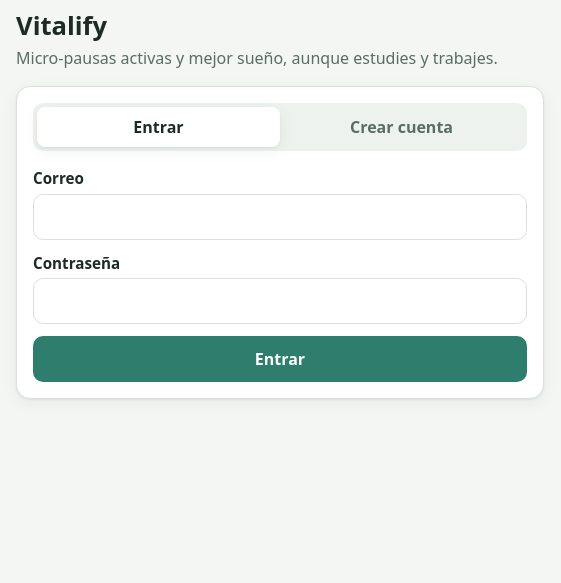
Test: Entrar › los errores por campo del registro se muestran junto al campo
Step 1. Click the tab "Crear cuenta" → (402, 127), box [280, 107, 523, 147]
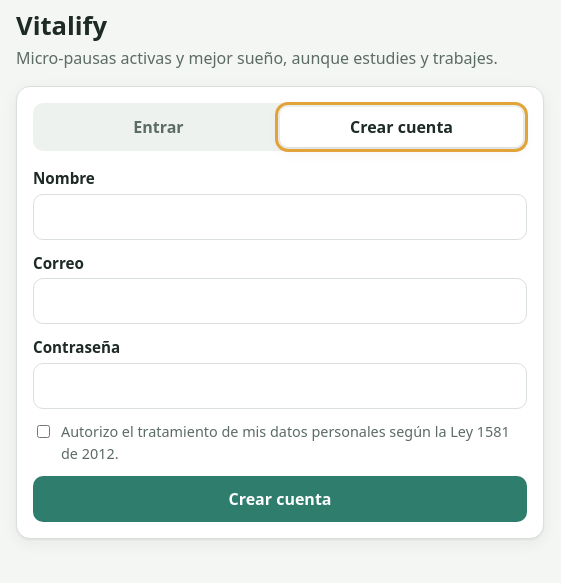
Step 2. Type "Ana" into the field labelled "Nombre" → (280, 216), box [33, 194, 527, 240]
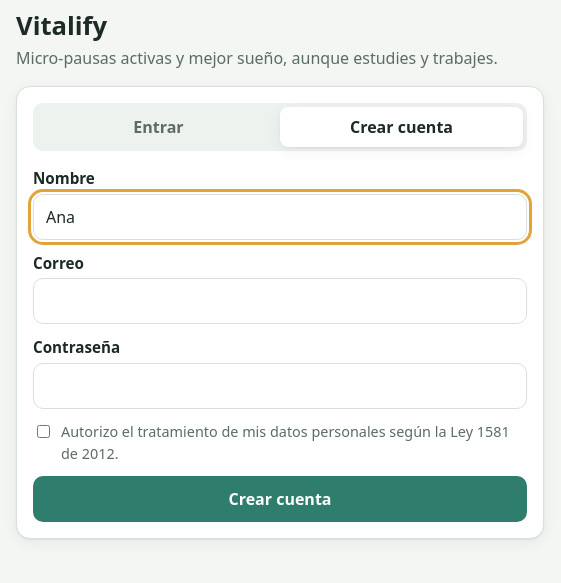
Step 3. Type "ana@x.co" into the field labelled "Correo" → (280, 301), box [33, 278, 527, 324]
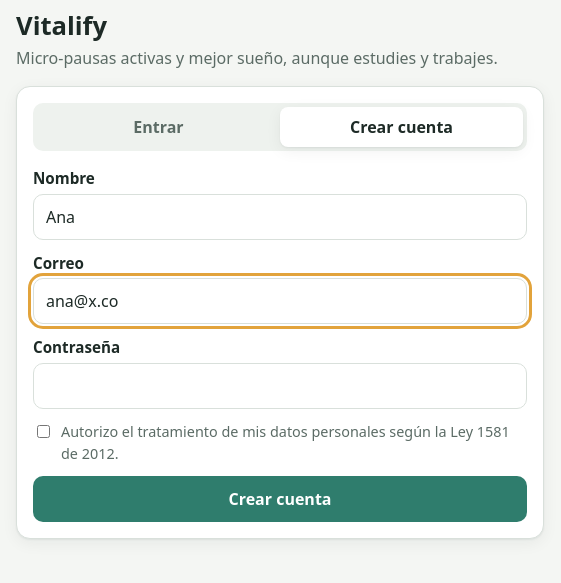
Step 4. Type "corta" into the password field labelled "Contraseña" → (280, 386), box [33, 363, 527, 409]
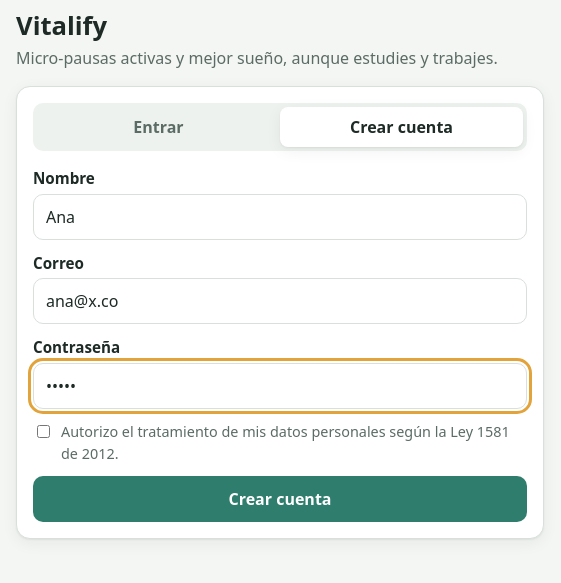
Step 5. Click the checkbox → (44, 432), box [37, 425, 50, 438]
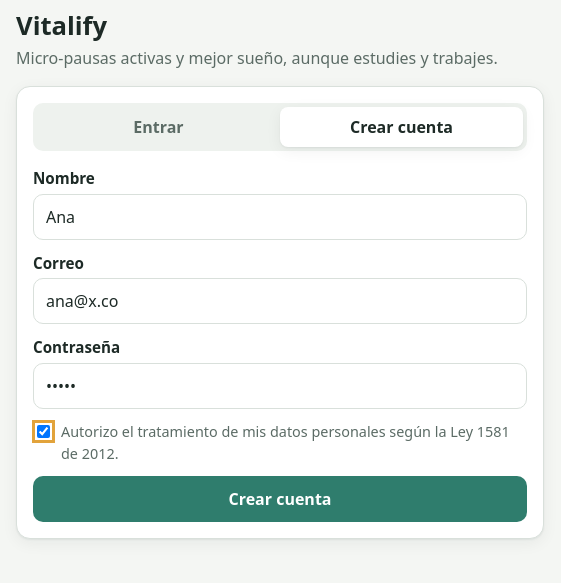
Step 6. Click the button "Crear cuenta" → (280, 499), box [33, 476, 527, 522]
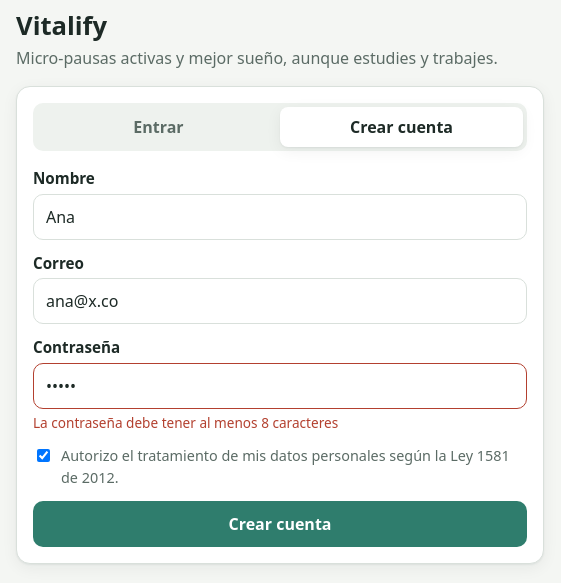
Expected: the text "La contraseña debe tener al menos 8 caracteres" is shown, [33, 413, 338, 432]
